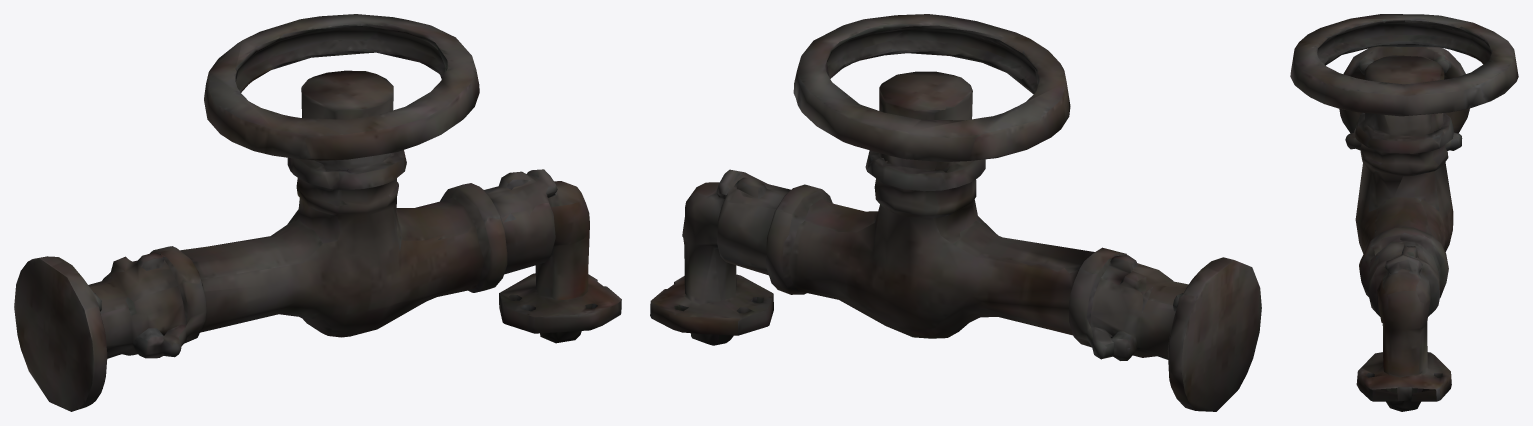
Rendered from ancient-iron-drainpipe-v001.glb.
3 views of the same model, side by side, from view 1: azimuth 30°, elevation 25°; view 2: azimuth 150°, elevation 25°; view 3: azimuth 270°, elevation 25° (orthographic). The views are drawn at different scales.
Visible parts, largest first — view 1: ancient-iron-drainpipe; view 2: ancient-iron-drainpipe; view 3: ancient-iron-drainpipe.
Boxes of the visible parts, x1,y1,x2,y2 form: ancient-iron-drainpipe: (14,14,621,411); ancient-iron-drainpipe: (650,14,1261,411); ancient-iron-drainpipe: (1290,14,1518,411).
Bounding box in the file's own units: 4.76 × 2.7 × 2.05.
Materials: 1 (1 with a texture image).
